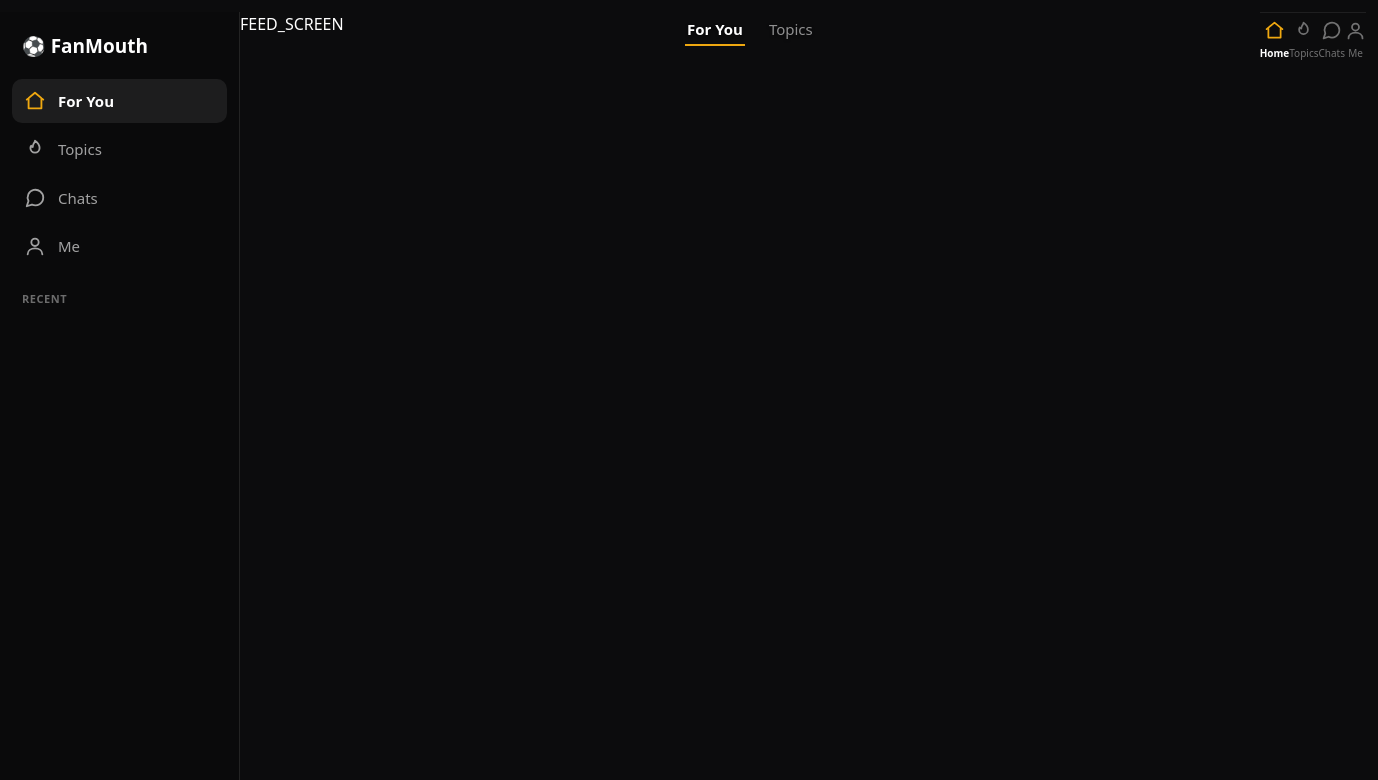
Test case: AppShell › renders the feed at "/" and switches routes when tabs are clicked
The width and height of the screenshot is (1378, 780).
Expected: the text "FEED_SCREEN" is shown, left=240, top=13, right=344, bottom=35
Click the link "Topics" below "⚽ FanMouth" at (63, 149), box left=24, top=138, right=102, bottom=160
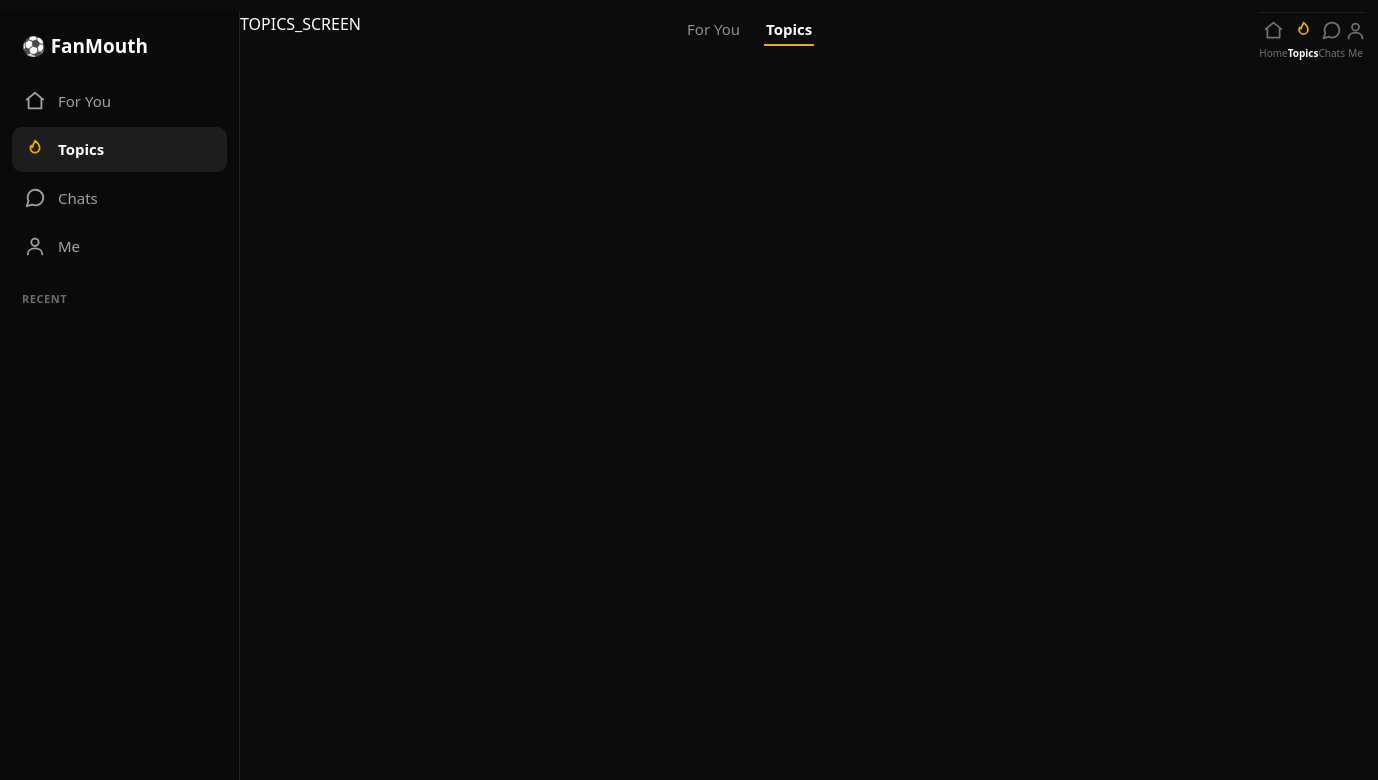
Now the text "TOPICS_SCREEN" is shown, box left=240, top=13, right=361, bottom=35
Now the text "FEED_SCREEN" is gone
Click the link "Chats" below "⚽ FanMouth" at (61, 198), box left=24, top=187, right=98, bottom=209
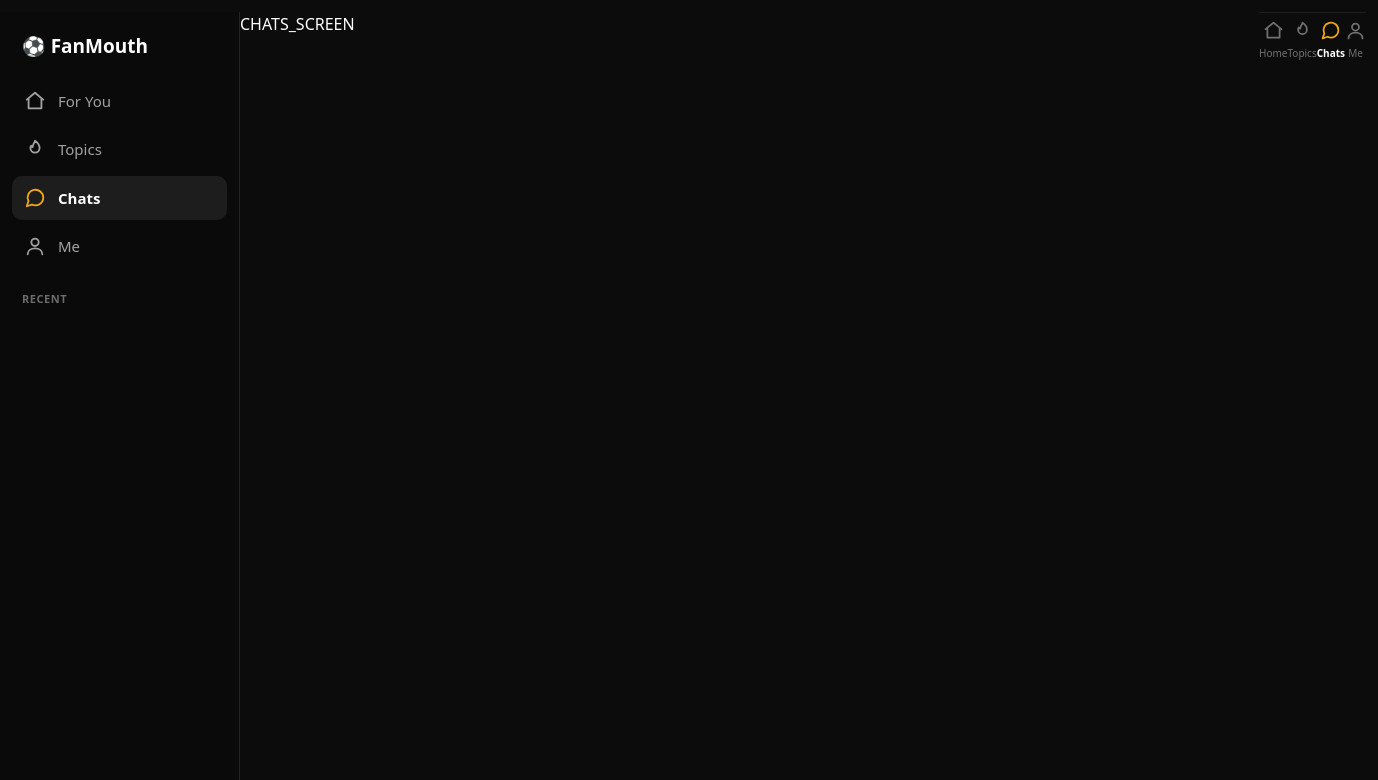
Now the text "CHATS_SCREEN" is shown, box left=240, top=13, right=355, bottom=35
Click the link "Me" below "For You" at (35, 246), box left=24, top=235, right=80, bottom=257
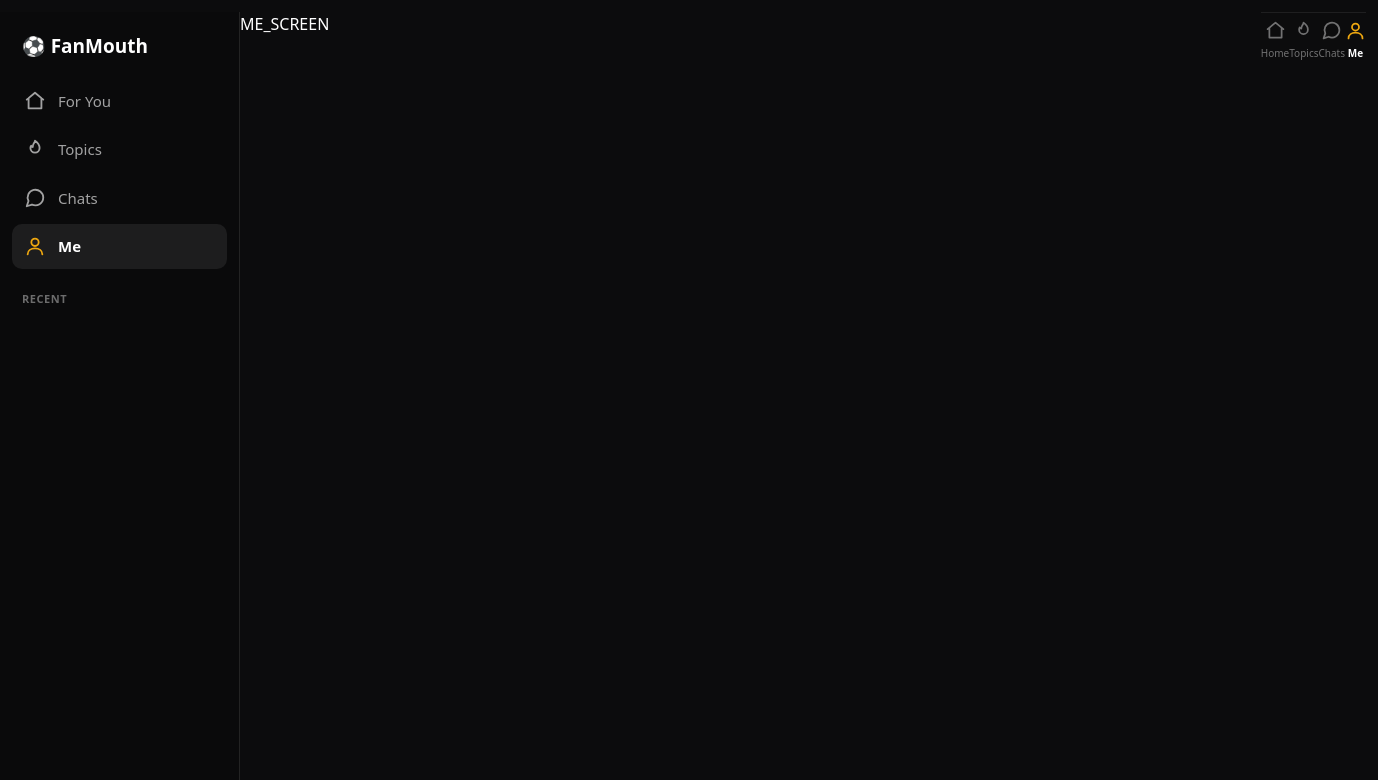
Now the text "ME_SCREEN" is shown, box left=240, top=13, right=329, bottom=35
